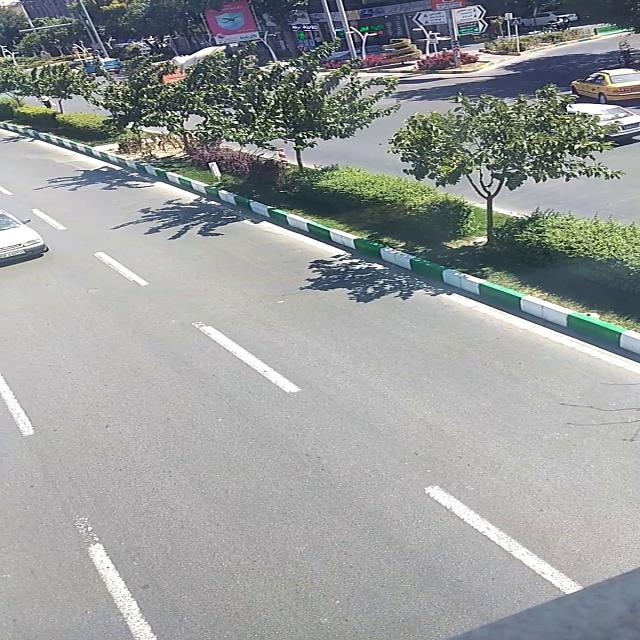car: (2, 206, 48, 264), (572, 67, 640, 103), (571, 104, 640, 139), (522, 12, 574, 26)
